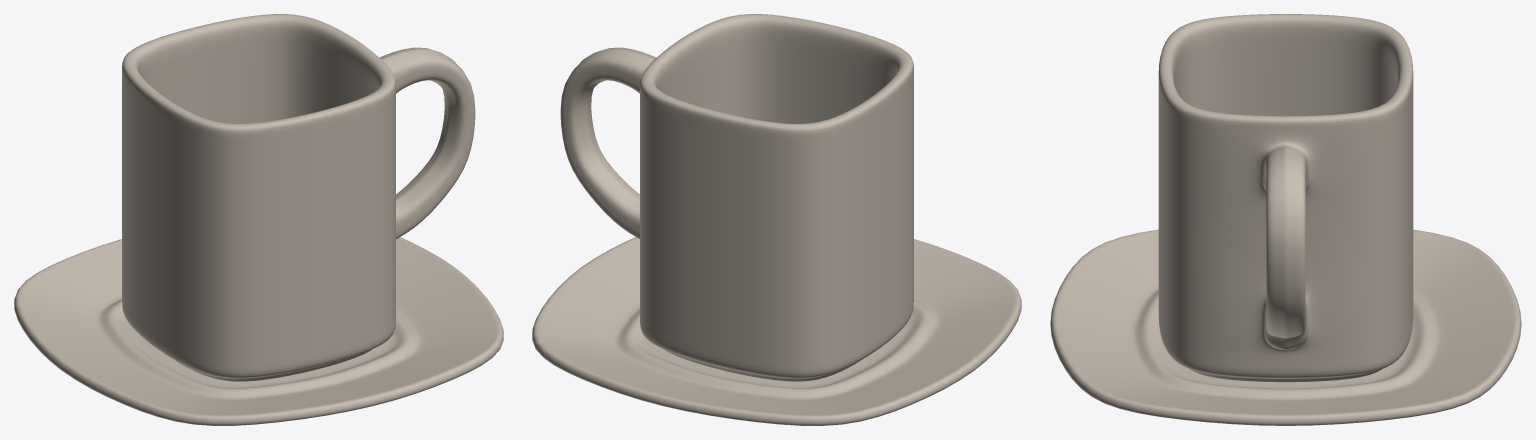
Rendered from стакан.fbx.
The picture shows the model from 3 angles, left to right: view 1: azimuth 30°, elevation 25°; view 2: azimuth 150°, elevation 25°; view 3: azimuth 270°, elevation 25°; orthographic projection. The views are drawn at different scales.
Visible parts, largest first — view 1: Mug; view 2: Mug; view 3: Mug.
Part boxes in pixels (left/top/right/bottom): Mug: left=14, top=14, right=503, bottom=425; Mug: left=532, top=14, right=1021, bottom=425; Mug: left=1050, top=14, right=1521, bottom=425.
Bounding box in the file's own units: 14.73 × 9.64 × 14.25.
